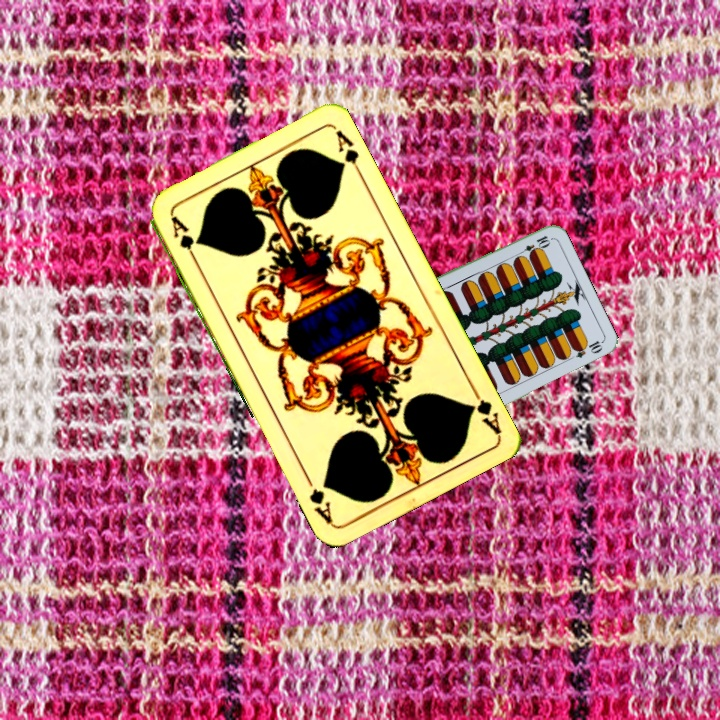E10: (514, 231, 553, 259)
GA: (464, 381, 503, 436), (166, 211, 201, 267)
